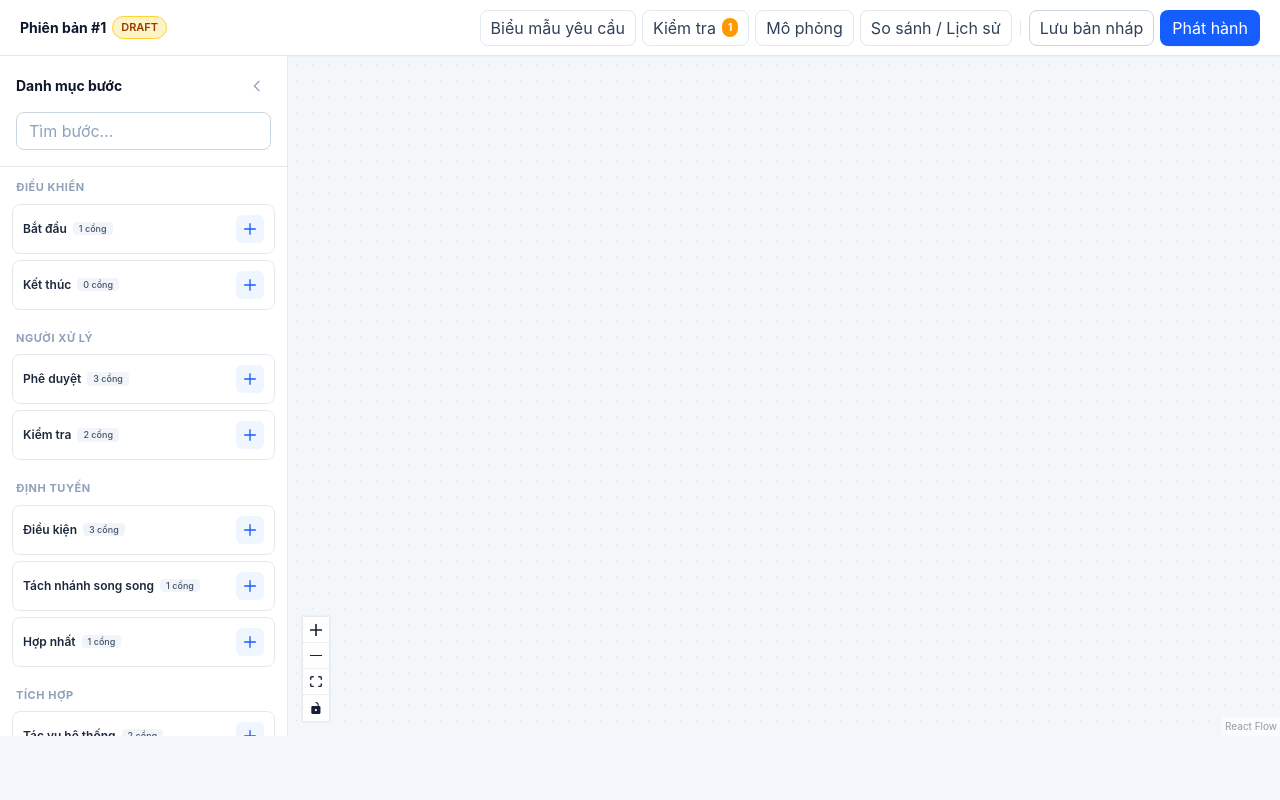
Scenario: WorkflowBuilder Component › notifies the host with the published version after successful publication
Click the button with test id "toolbar-publish-button": {"x": 1210, "y": 28} x1=1160 y1=10 x2=1260 y2=46
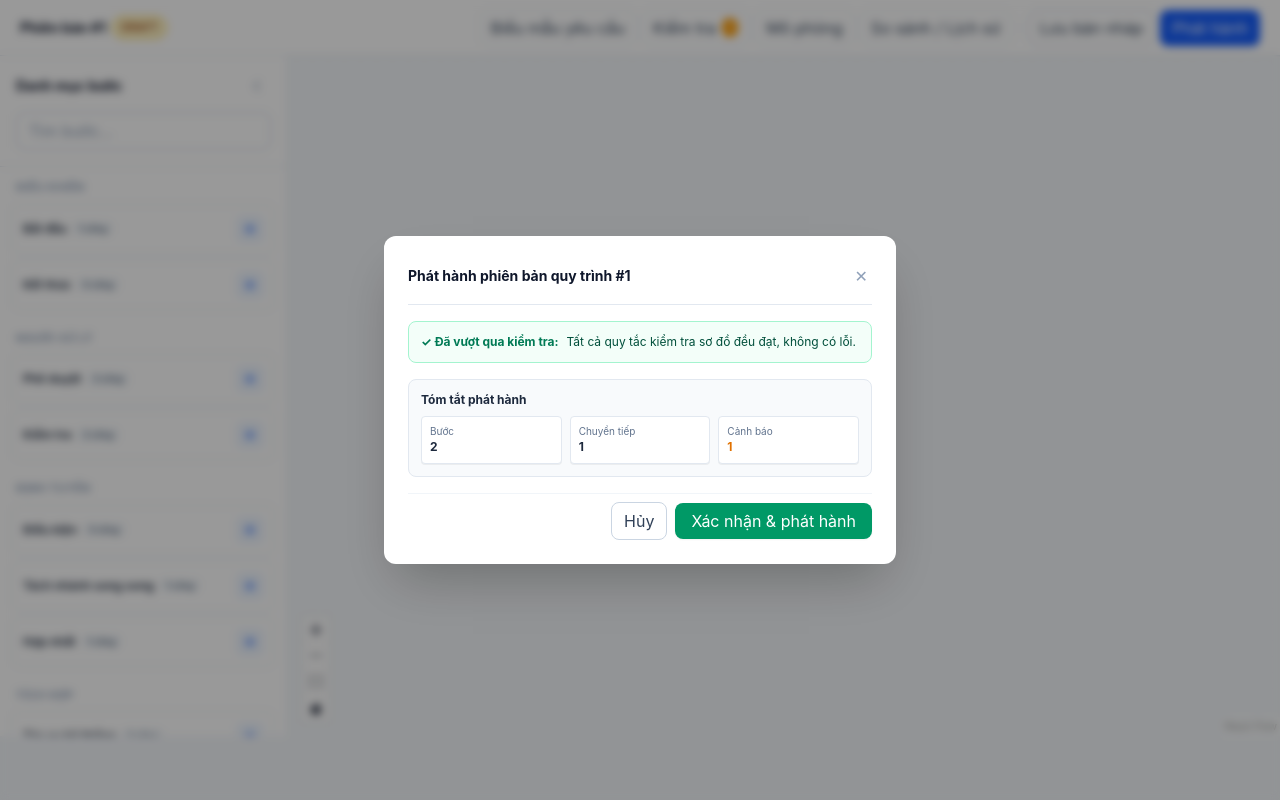
Click the button with test id "confirm-publish-btn": {"x": 774, "y": 521} x1=675 y1=503 x2=872 y2=539
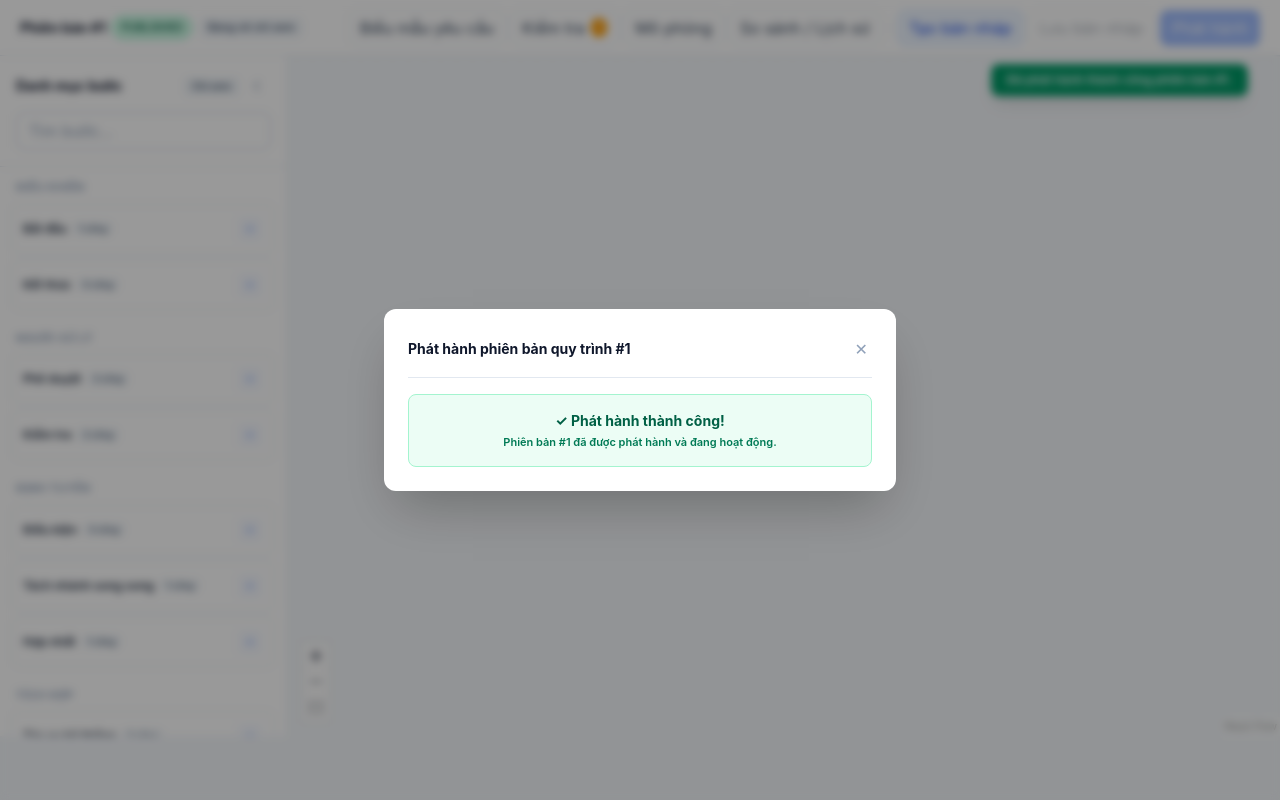
Check: the element with test id "publish-success-message" is shown, box x1=408 y1=394 x2=872 y2=467
